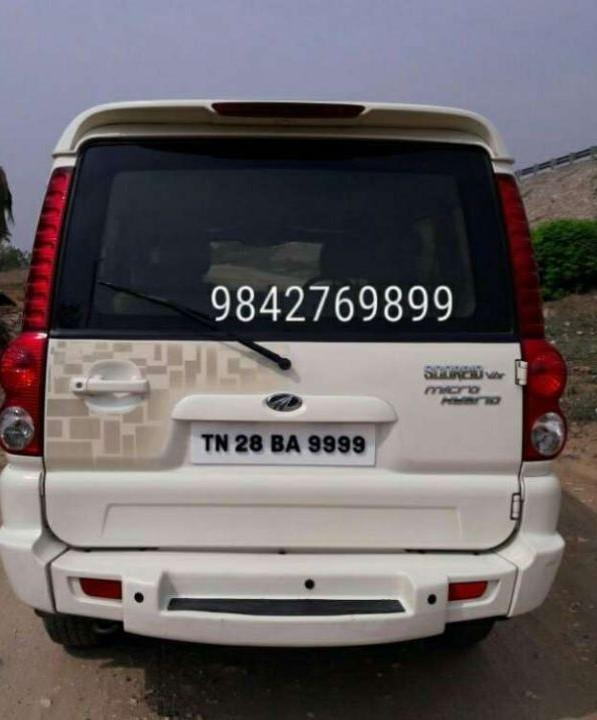License-Plate: (198, 419, 383, 471)
